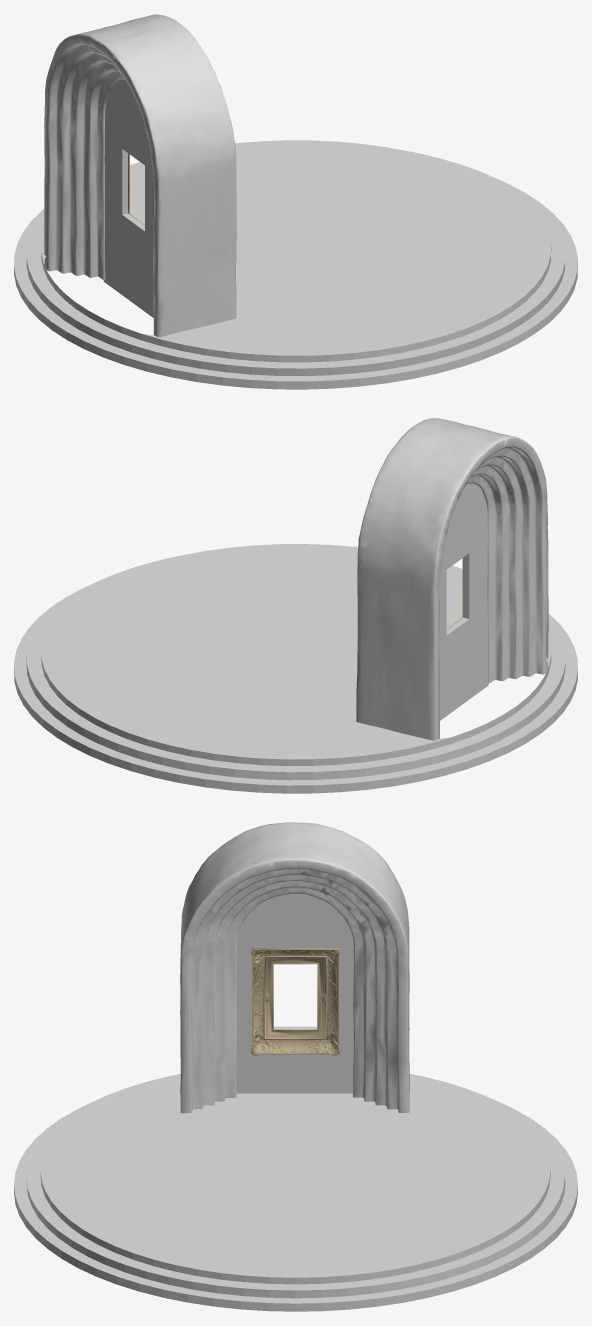
File: env-photographs.glb
3 renders of one model, top to bottom at view 1: azimuth 30°, elevation 25°; view 2: azimuth 150°, elevation 25°; view 3: azimuth 270°, elevation 25°, orthographic.
Parts seen in each view (by area): view 1: Circle, Plane.005; view 2: Circle, Plane.005; view 3: Circle, Plane.005, Retro picture frame.001.
Boxes of the visible parts, left/top/right/bottom form: Circle: left=14, top=140, right=577, bottom=389; Plane.005: left=44, top=14, right=236, bottom=337; Circle: left=14, top=544, right=577, bottom=793; Plane.005: left=356, top=418, right=548, bottom=740; Circle: left=14, top=1074, right=577, bottom=1311; Plane.005: left=180, top=822, right=409, bottom=1113; Retro picture frame.001: left=251, top=948, right=339, bottom=1055.
Bounding box in the file's own units: 8.22 × 4.45 × 8.22.
